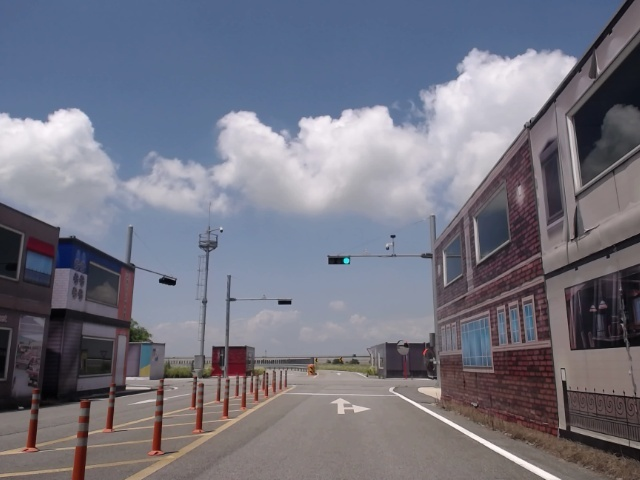green_3: (329, 256, 350, 264)
